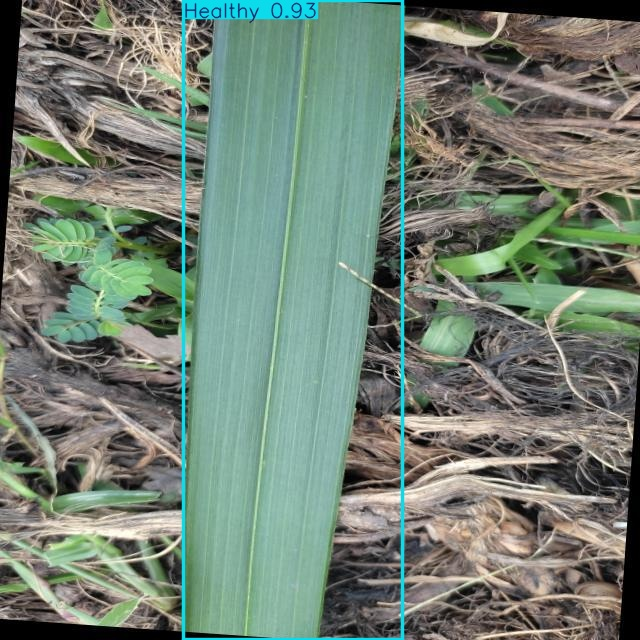Healthy: (183, 0, 402, 640)
